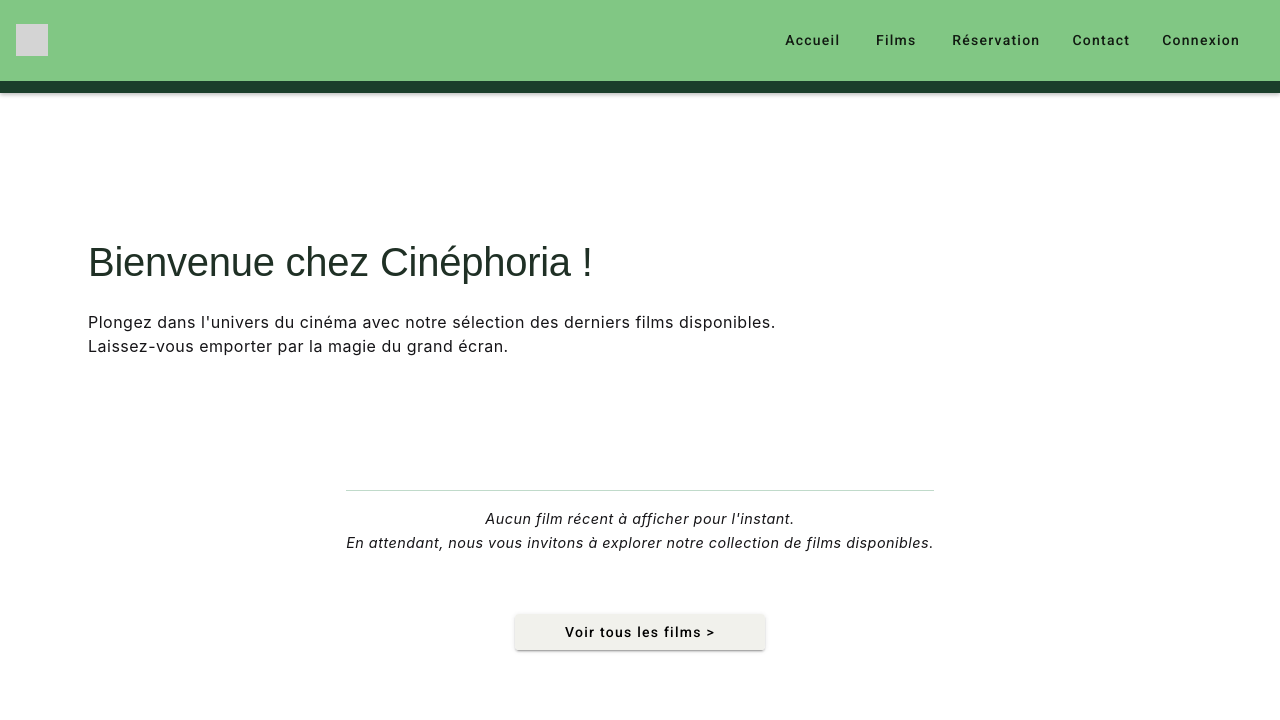
Test: Admin login e2e Tests › should show an error message for incorrect credentials
This screenshot has width=1280, height=720.
Click the button "Connexion": (1201, 40) [1154,22,1248,58]
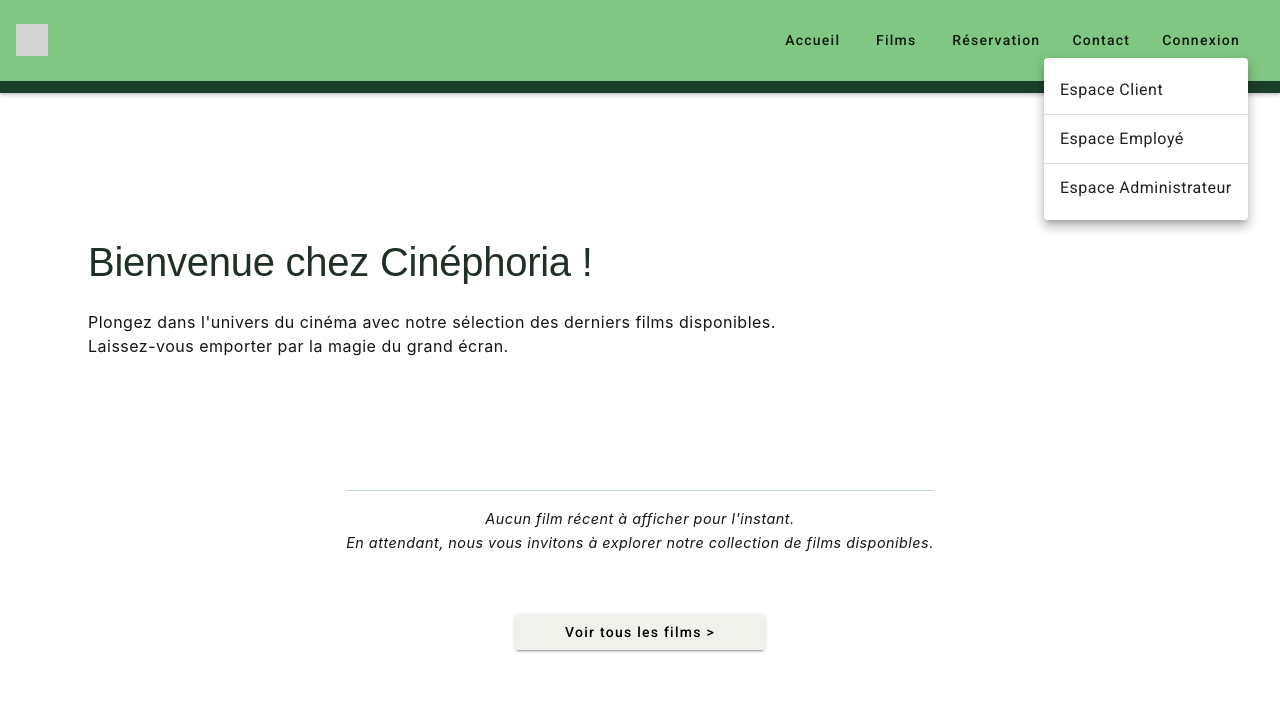
Result: the element showing "Espace Client Espace Employé Espace Administrateur" is shown at [1060,80,1232,197]
Result: the menu item "Espace Administrateur" is shown
Click the menu item "Espace Administrateur": (1146, 188) [1060,178,1232,197]
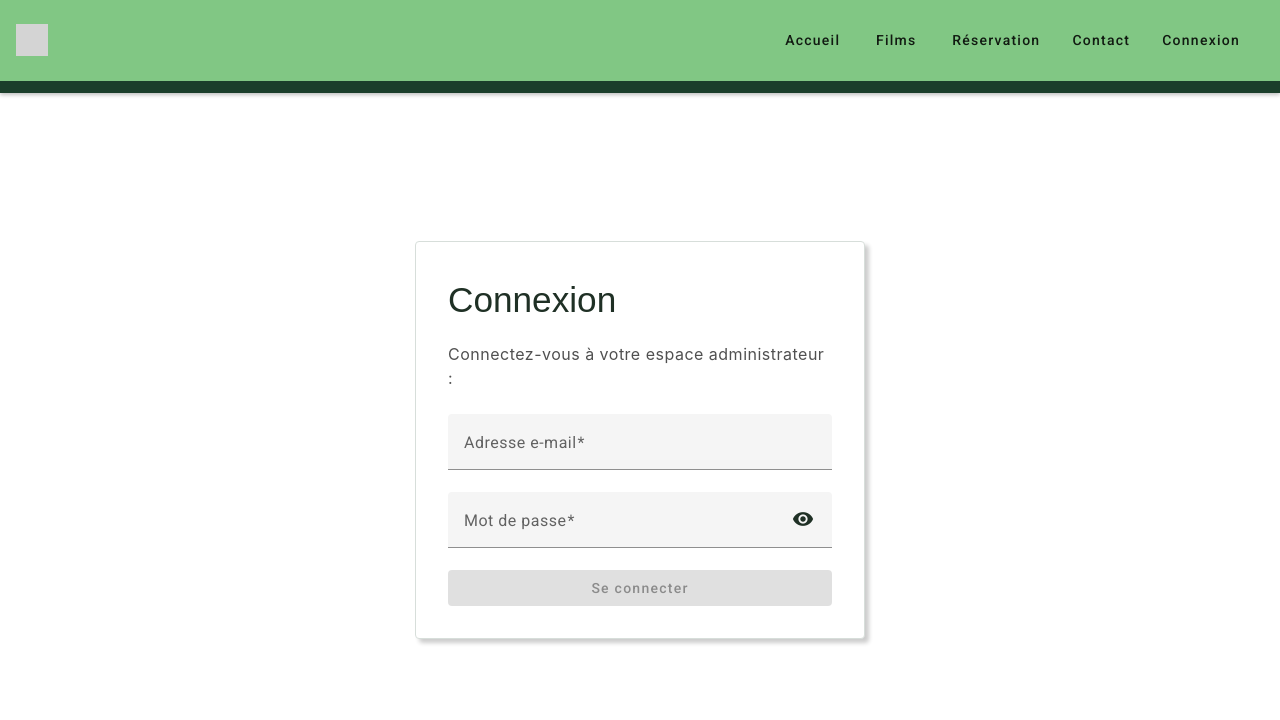
In the field named "email": (640, 450) [464,438,816,462], type "testingrandomemailaddress@madeupadress.com"
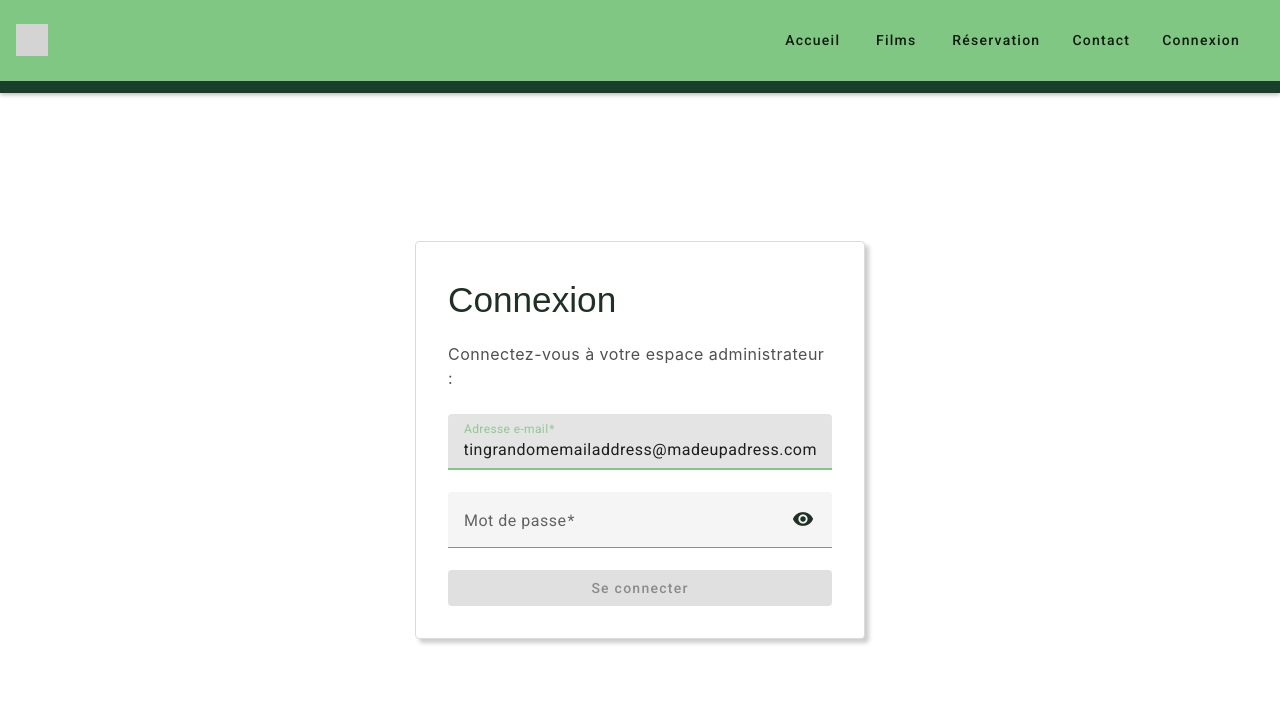
In the password field named "password": (617, 528) [464,516,770,540], type "StrongPassword123!"
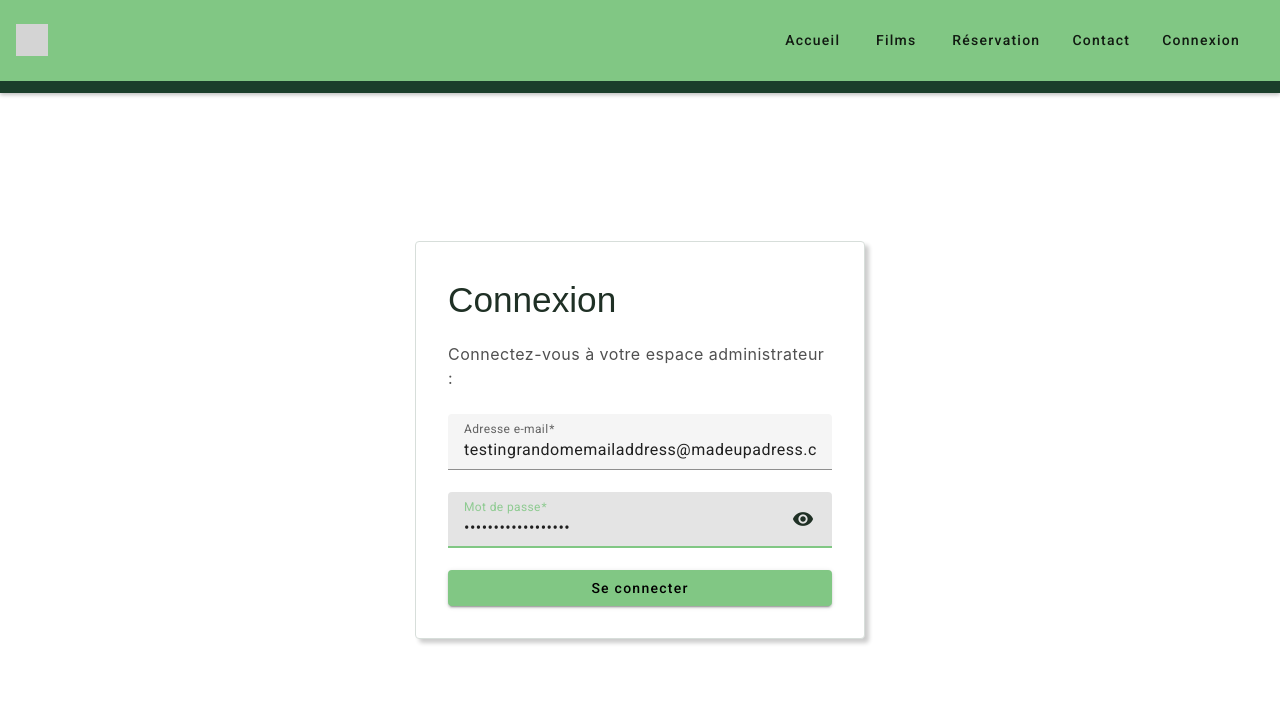
Click the submit button: (640, 588) [448,570,832,606]
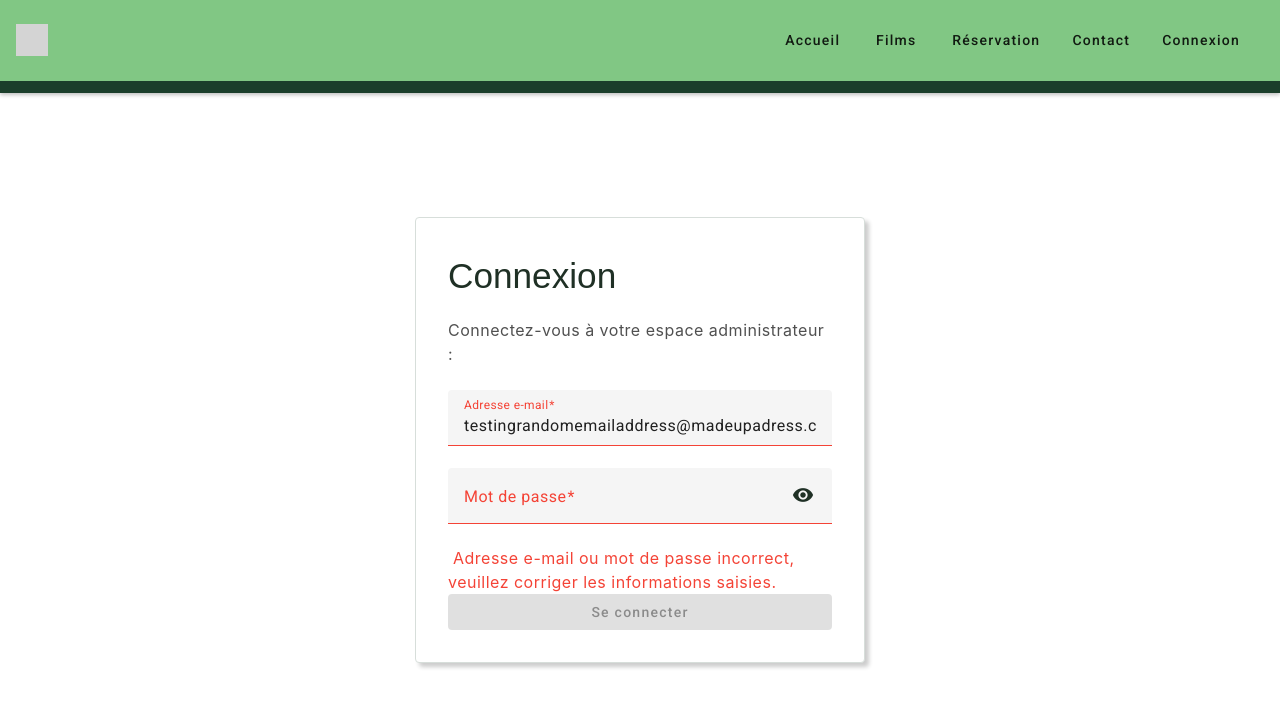
Result: the text "Adresse e-mail ou mot de passe incorrect, veuillez corriger les informations saisies." is shown at [448,548,795,592]
